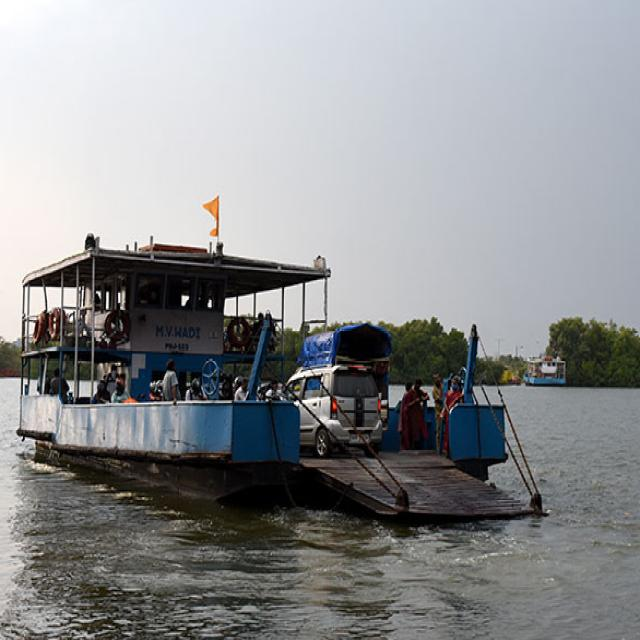cargoship: (33, 196, 571, 550)
